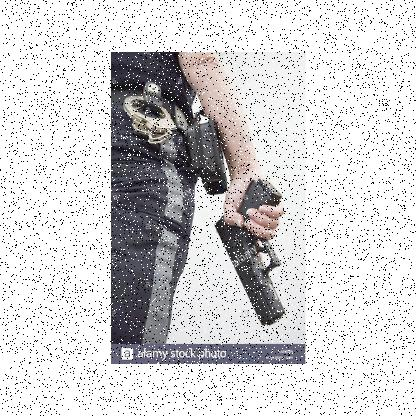gun: (210, 178, 292, 328)
